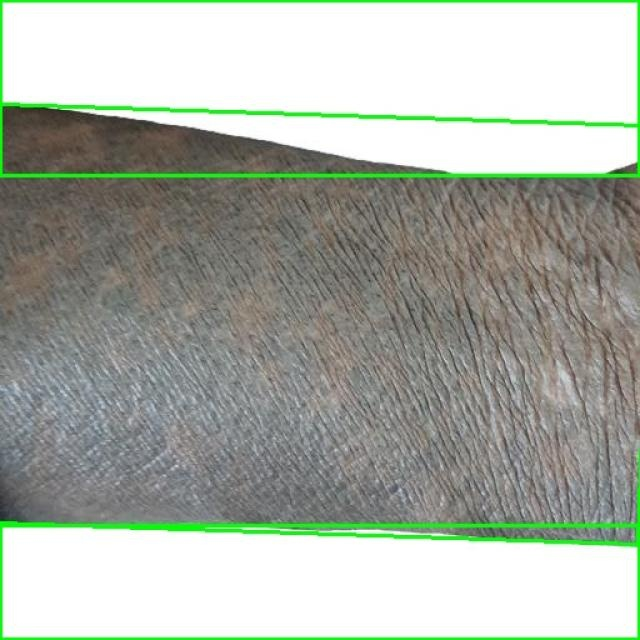Eczema: (0, 105, 640, 544), (0, 0, 639, 175), (0, 525, 639, 639)
